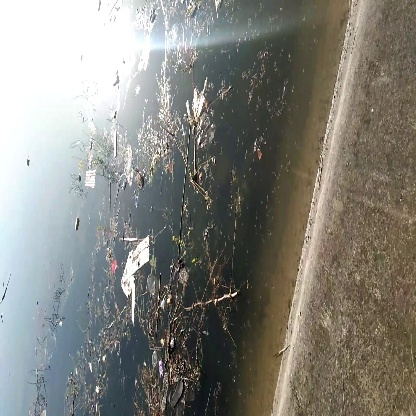plastic-bag: (119, 234, 156, 315)
